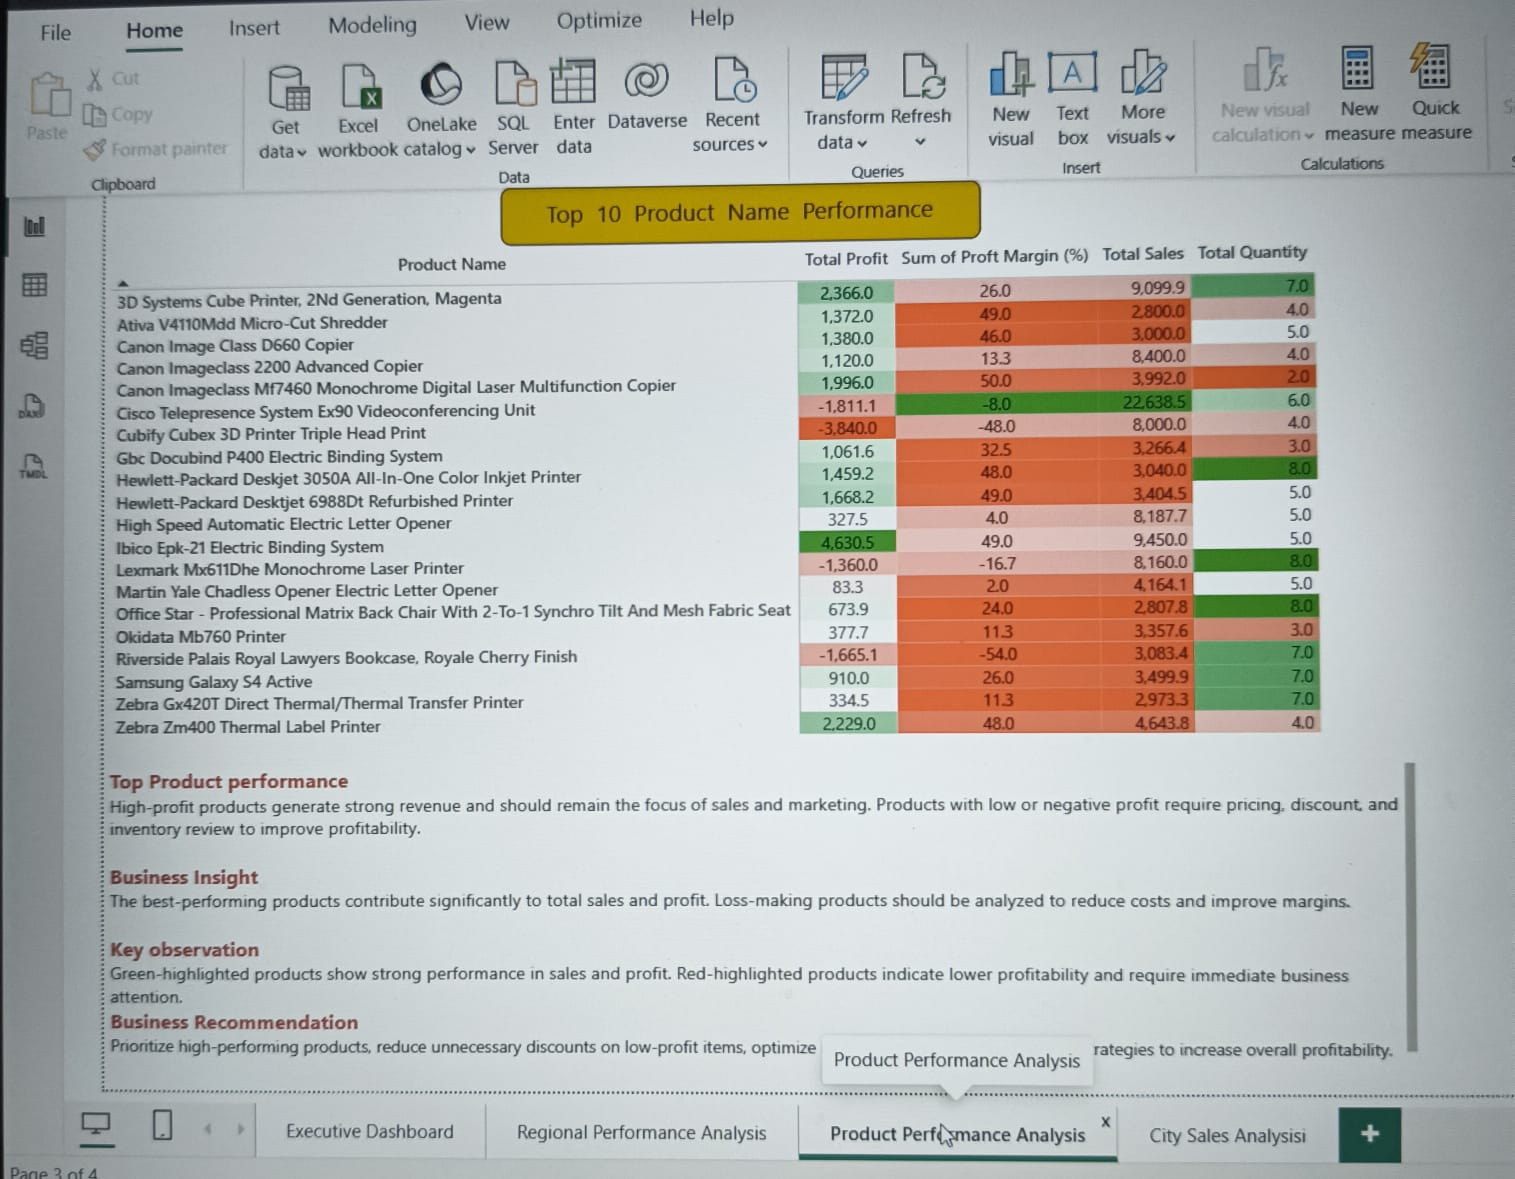

The dashboard page shown, as its layout file describes it:
{"tool":"powerbi","page":{"name":"Product Performance Analysis","canvas":[1280,720],"ordinal":2},"visuals":[{"type":"pivotTable","fields":{"Rows":["Orders.Product Name"],"Values":["Orders.Total Profit","Sum(Orders.Proft Margin (%))","Orders.Total Sales","Orders.Total Quantity"]},"box":[0,46.7,1041.1,401.1],"z":0},{"type":"textbox","box":[321.1,0,382.2,46.7],"z":1000},{"type":"textbox","box":[0,457.8,1041.1,262.2],"z":2000}]}

Visuals, with their boxes on the page's 1280x720 design canvas (x1, y1, x2, y2). These are canvas units, not pixel positions in the 1515x1179 screenshot, which may show the page scaled, cropped or inside an application window:
pivotTable - Orders.Product Name x Orders.Total Profit: 0:47:1041:448
textbox: 321:0:703:47
textbox: 0:458:1041:720
